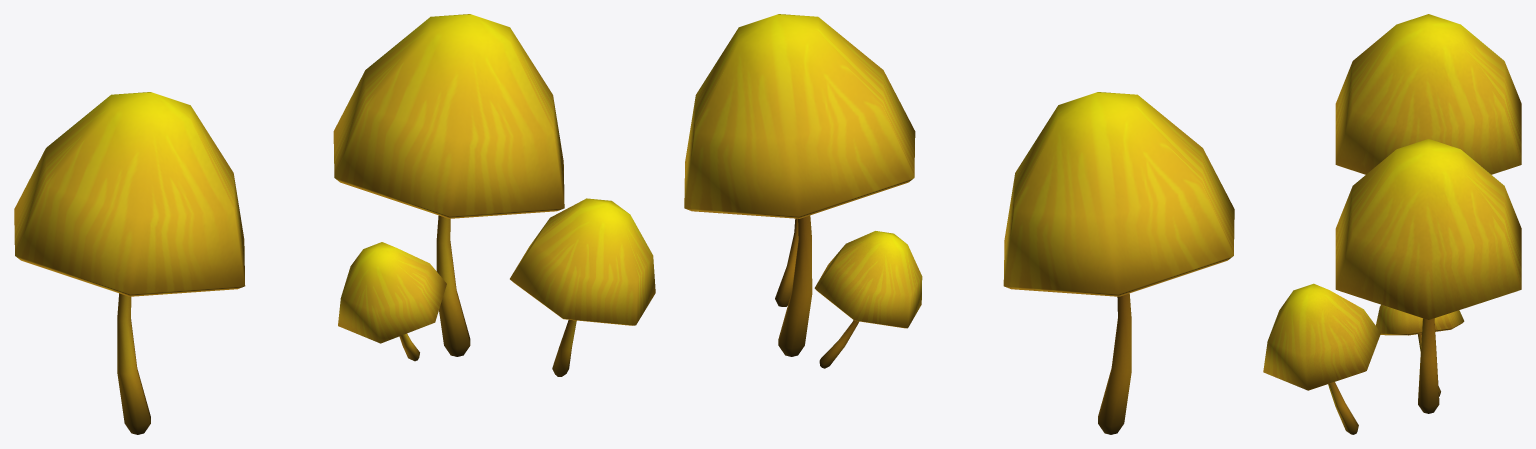
Rendered from Mushroom_06.FBX.
The picture shows the model from 3 angles, left to right: view 1: azimuth 30°, elevation 25°; view 2: azimuth 150°, elevation 25°; view 3: azimuth 270°, elevation 25°; orthographic projection. The views are drawn at different scales.
Parts seen in each view (by area): view 1: Mushroom 6_group, Mushroom 6_single; view 2: Mushroom 6_group, Mushroom 6_single; view 3: Mushroom 6_group, Mushroom 6_single.
Boxes of the visible parts, left/top/right/bottom form: Mushroom 6_group: left=333, top=14, right=655, bottom=376; Mushroom 6_single: left=14, top=92, right=245, bottom=434; Mushroom 6_group: left=684, top=14, right=922, bottom=368; Mushroom 6_single: left=1003, top=92, right=1234, bottom=434; Mushroom 6_group: left=1263, top=139, right=1521, bottom=434; Mushroom 6_single: left=1335, top=14, right=1521, bottom=174.
Size of the model in its own units: 12.47 by 7.1 by 6.17.
Materials: 1 (1 with a texture image).
